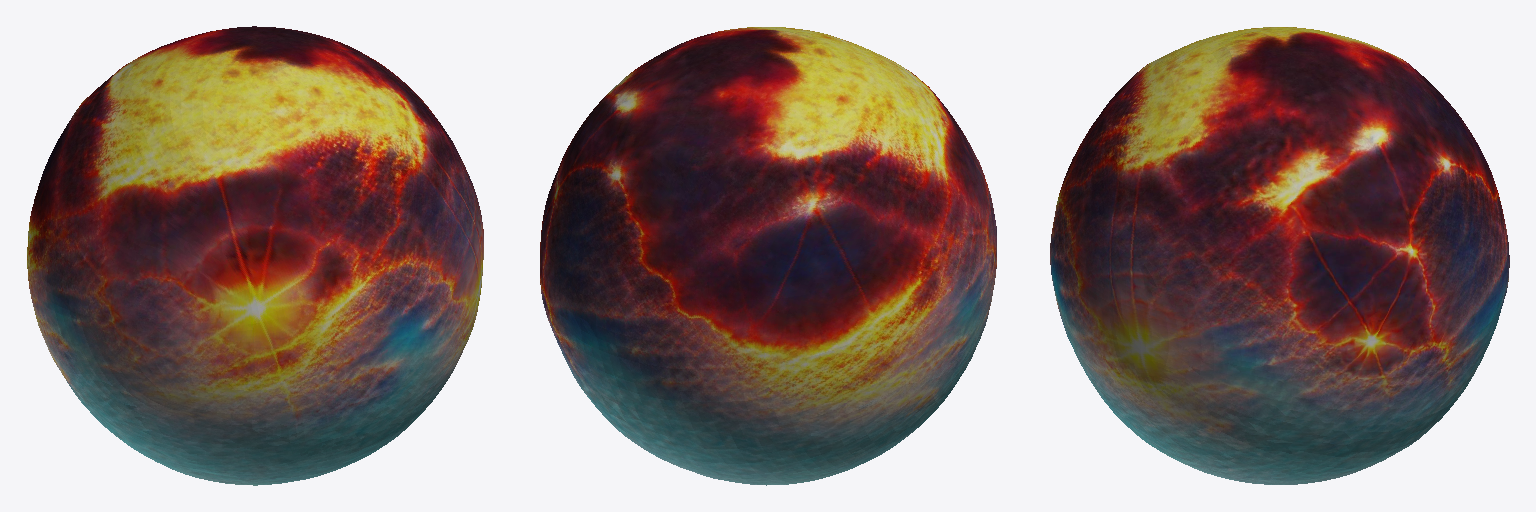
3 renders of one model, left to right at view 1: azimuth 30°, elevation 25°; view 2: azimuth 150°, elevation 25°; view 3: azimuth 270°, elevation 25°, orthographic.
Parts seen in each view (by area): view 1: mesh; view 2: mesh; view 3: mesh.
Boxes of the visible parts, x1=… form: mesh: x1=27, y1=26, x2=483, y2=485; mesh: x1=540, y1=27, x2=996, y2=485; mesh: x1=1050, y1=27, x2=1509, y2=484.
Bounding box in the file's own units: 0.9976 × 0.9984 × 0.9996.
1 materials, 1 textured.